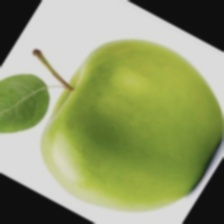apple: (20, 35, 192, 178)
